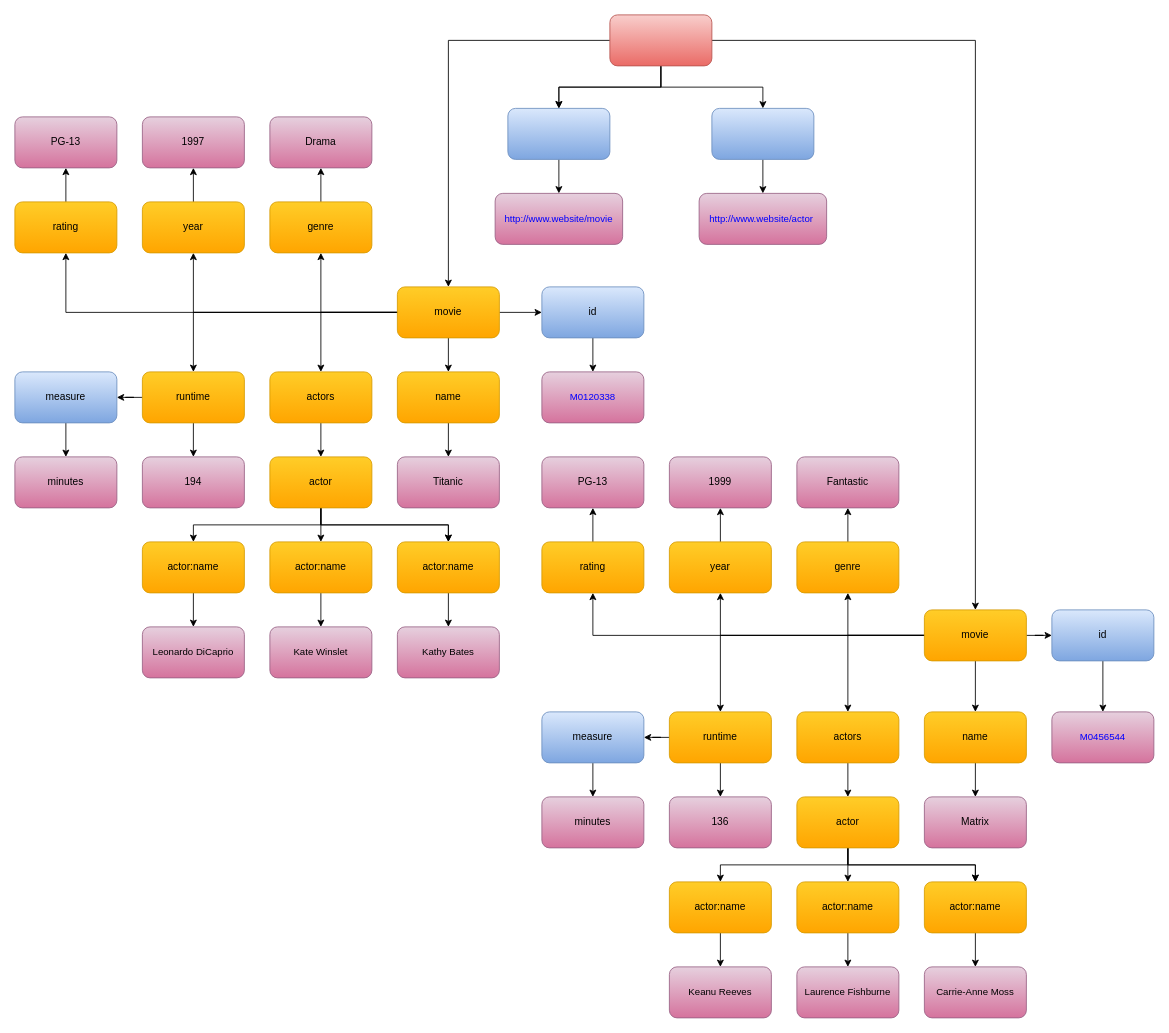
The diagram is 1169 pixels wide and 1033 high, and some of its shapes have lost their labels. Here are the shapes that lost their labels. From the top down, the box of each, then its label:
(609, 14, 712, 66): movies
(507, 108, 610, 159): xmlns:movie
(711, 108, 814, 159): xmlns:actor
